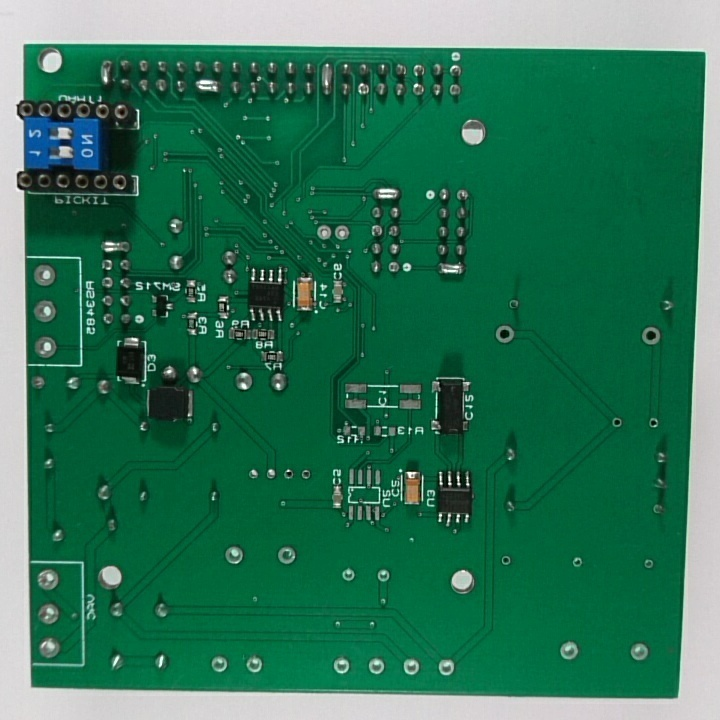F: (34, 600, 63, 629), (30, 298, 60, 326), (30, 334, 60, 361), (37, 633, 62, 662), (36, 566, 62, 593), (31, 263, 57, 289), (493, 319, 518, 346), (222, 542, 245, 571), (557, 639, 582, 665), (208, 651, 233, 676), (277, 543, 300, 569), (640, 322, 662, 348), (626, 640, 650, 663), (244, 653, 266, 677), (30, 373, 48, 395), (340, 566, 358, 586), (355, 80, 373, 99), (374, 568, 394, 585), (410, 62, 428, 80), (650, 499, 666, 519), (607, 415, 627, 431), (368, 223, 386, 240), (447, 63, 464, 80), (569, 555, 585, 572), (386, 259, 402, 276), (454, 187, 470, 204), (642, 555, 657, 572), (505, 297, 522, 312), (500, 552, 514, 570), (100, 274, 115, 290), (647, 415, 661, 432)
P: (318, 58, 335, 100), (368, 183, 404, 202), (97, 238, 134, 255), (190, 76, 222, 95), (97, 55, 114, 90), (436, 260, 465, 280)
